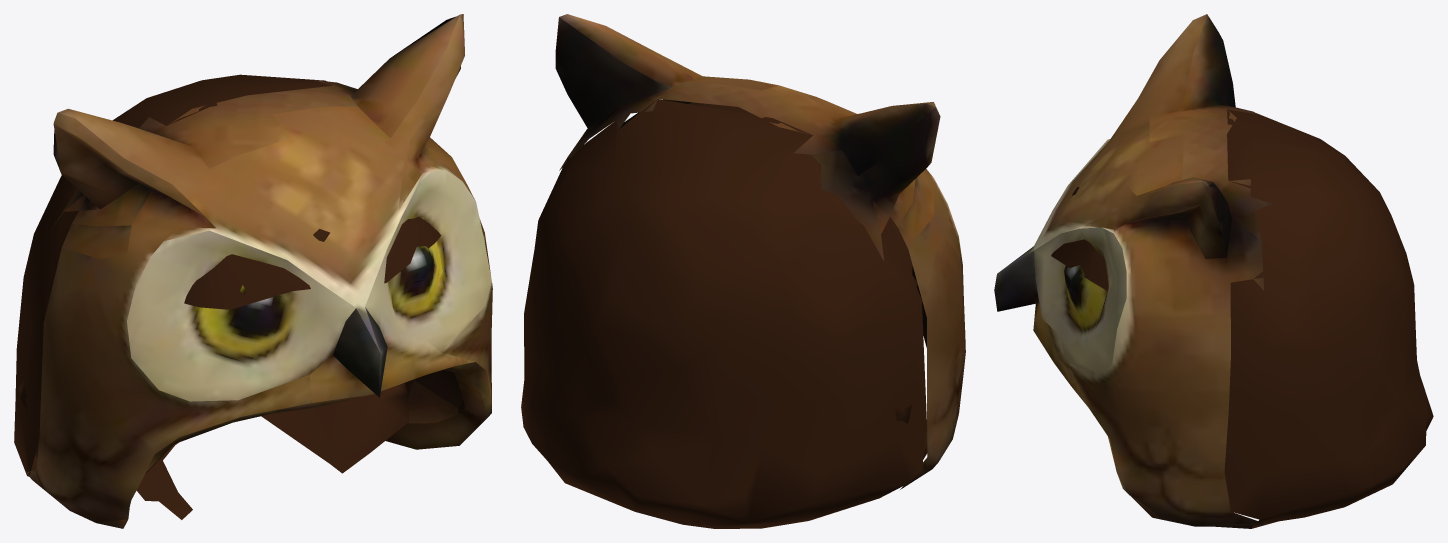
Rendered from owl.glb.
3 renders of one model, left to right at view 1: azimuth 30°, elevation 25°; view 2: azimuth 150°, elevation 25°; view 3: azimuth 270°, elevation 25°, orthographic. The views are drawn at different scales.
Parts seen in each view (by area): view 1: geometry_0, HoodAnatomicalLining; view 2: geometry_0, HoodAnatomicalLining; view 3: geometry_0, HoodAnatomicalLining.
Part boxes in pixels (x1,y1,x2,y2): geometry_0: (14, 14, 492, 528); HoodAnatomicalLining: (19, 186, 441, 519); geometry_0: (521, 14, 965, 528); HoodAnatomicalLining: (688, 102, 917, 423); geometry_0: (994, 14, 1433, 528); HoodAnatomicalLining: (1051, 133, 1267, 290).
Bounding box in the file's own units: 0.4825 × 0.4652 × 0.5007.
Materials: 2 (1 with a texture image).
